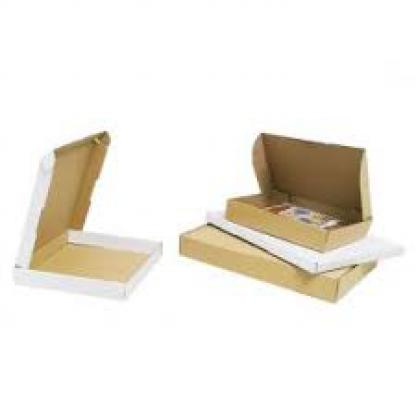CARDBOARD: (11, 129, 159, 296), (224, 132, 369, 252), (178, 222, 374, 301), (207, 205, 398, 274)
